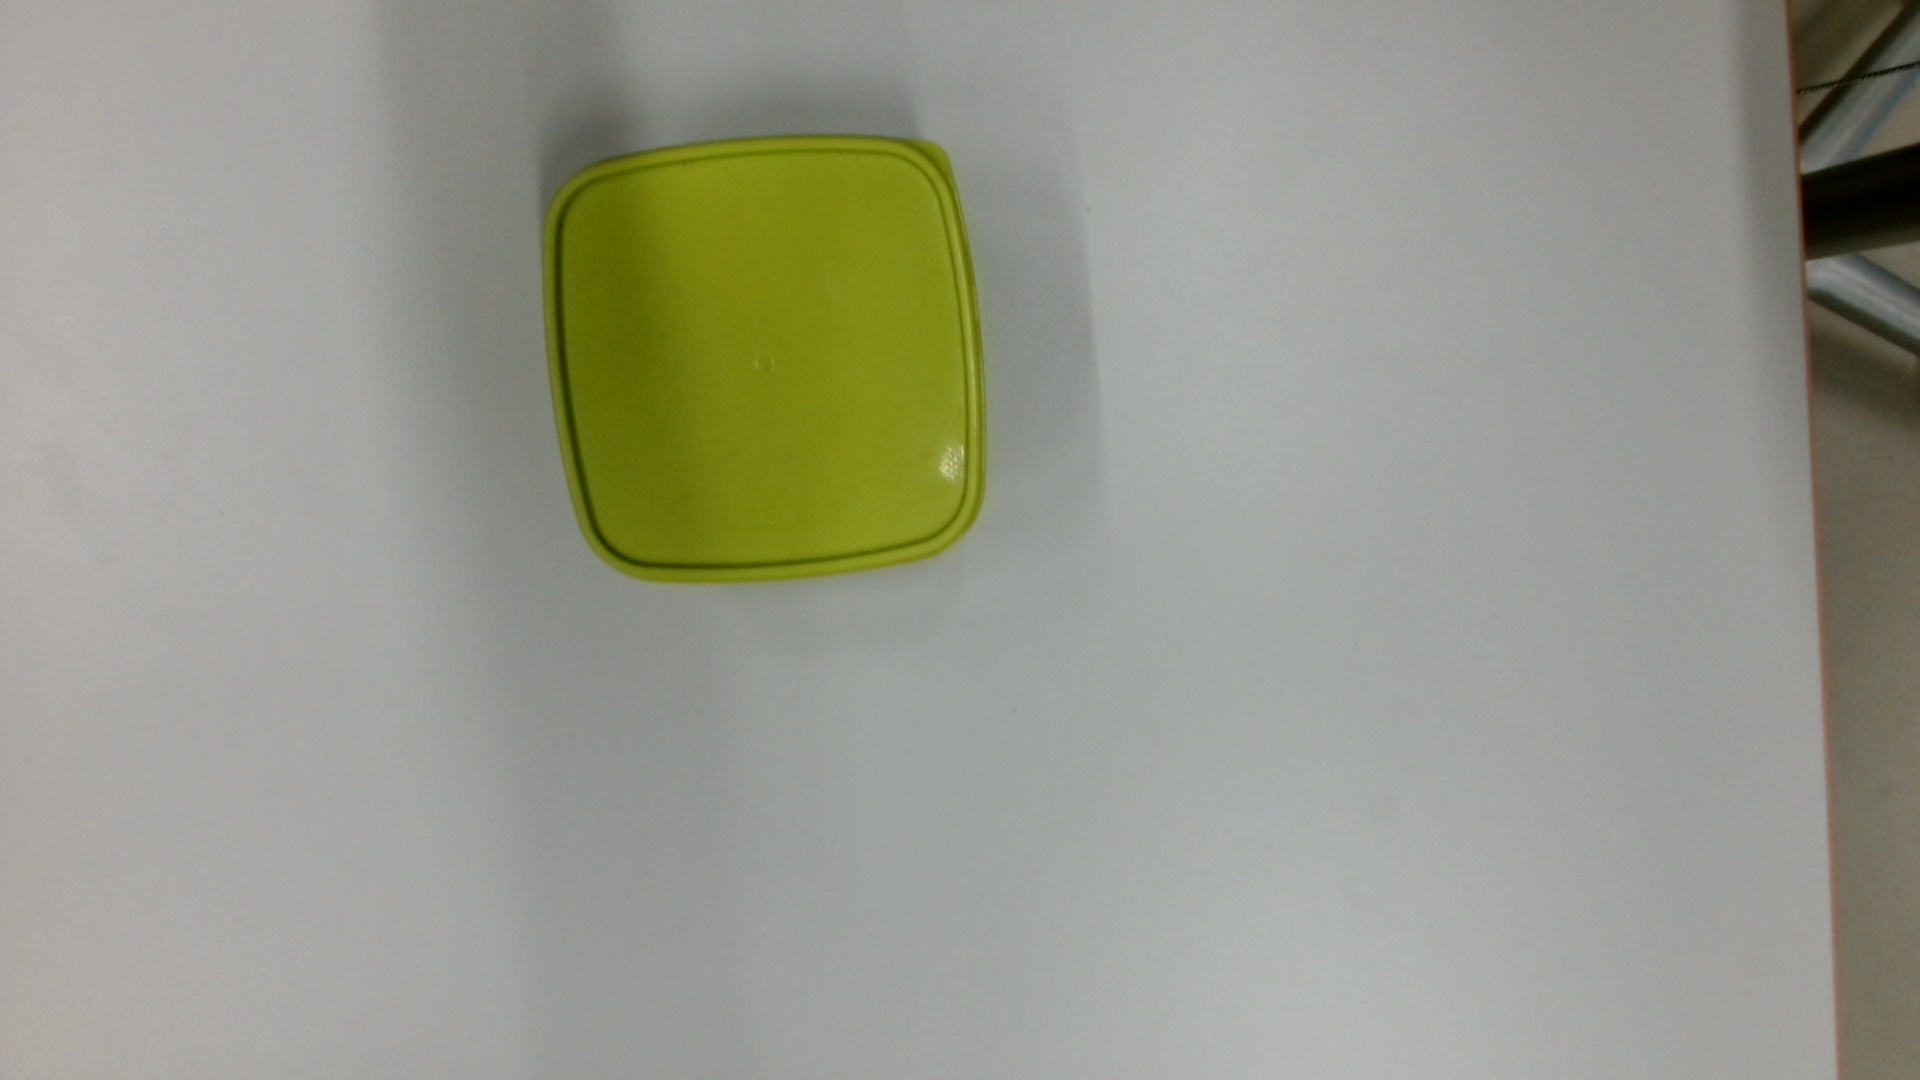Box: (531, 127, 1006, 595)
